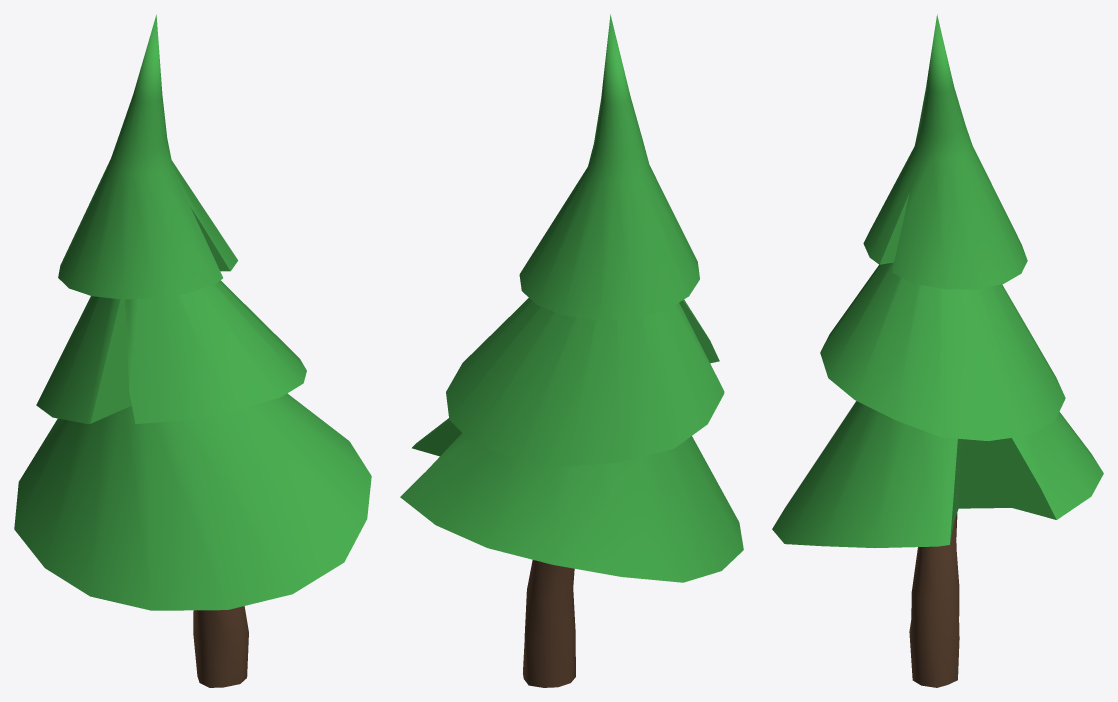
The model's file is WF_PCGTree.06.glb.
The picture shows the model from 3 angles, left to right: view 1: azimuth 30°, elevation 25°; view 2: azimuth 150°, elevation 25°; view 3: azimuth 270°, elevation 25°; orthographic projection. The views are drawn at different scales.
Parts seen in each view (by area): view 1: Tree.06; view 2: Tree.06; view 3: Tree.06.
Part boxes in pixels (x1=…): Tree.06: x1=14, y1=14, x2=371, y2=687; Tree.06: x1=400, y1=14, x2=743, y2=687; Tree.06: x1=772, y1=14, x2=1103, y2=687.
Size of the model in its own units: 0.6 by 1.27 by 0.6049.
